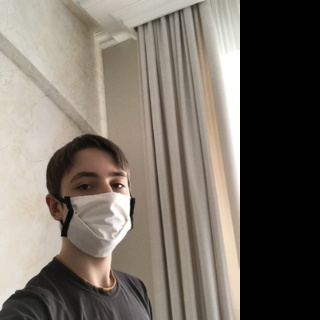with_mask: (61, 164, 136, 258)
